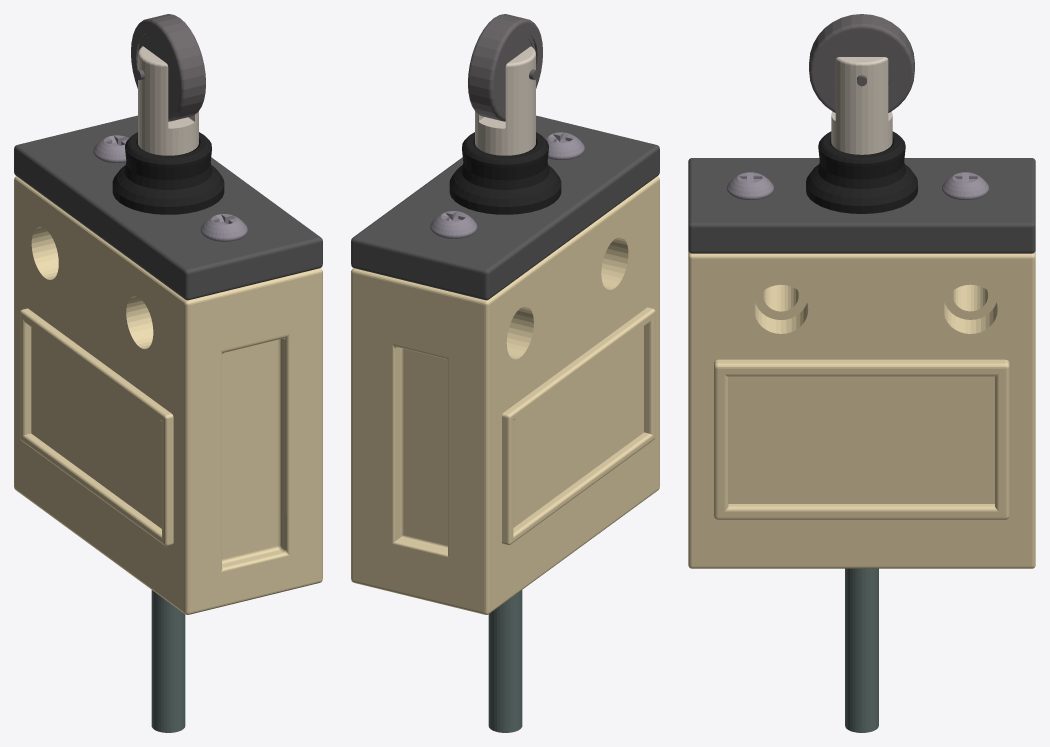
File: limitSwitch.fbx
3 renders of one model, left to right at view 1: azimuth 30°, elevation 25°; view 2: azimuth 150°, elevation 25°; view 3: azimuth 270°, elevation 25°, orthographic.
Parts seen in each view (by area): view 1: Cube, Cube.001, Circle, Cylinder.002, Circle.001, Cylinder, Bolt.001, Bolt; view 2: Cube, Cube.001, Circle, Cylinder.002, Circle.001, Cylinder, Bolt, Bolt.001; view 3: Cube, Cube.001, Circle, Cylinder.002, Circle.001, Cylinder, Bolt, Bolt.001.
Part boxes in pixels (x1,y1,x2,y2): Cube: (14, 176, 322, 614); Cube.001: (14, 115, 322, 300); Circle: (112, 132, 224, 214); Cylinder.002: (131, 14, 205, 121); Circle.001: (151, 590, 185, 732); Cylinder: (138, 46, 198, 155); Bolt.001: (200, 214, 247, 241); Bolt: (93, 135, 128, 162); Cube: (351, 176, 659, 614); Cube.001: (351, 115, 659, 300); Circle: (449, 132, 561, 214); Cylinder.002: (468, 14, 542, 121); Circle.001: (488, 590, 522, 732); Cylinder: (475, 46, 535, 155); Bolt: (430, 211, 477, 238); Bolt.001: (544, 132, 584, 160); Cube: (688, 251, 1035, 568); Cube.001: (688, 158, 1035, 253); Circle: (806, 131, 917, 213); Cylinder.002: (809, 14, 914, 112); Circle.001: (845, 568, 878, 732); Cylinder: (831, 57, 892, 154); Bolt: (942, 172, 989, 199); Bolt.001: (726, 172, 773, 199).
Size of the model in its own units: 104 by 449 by 200.
